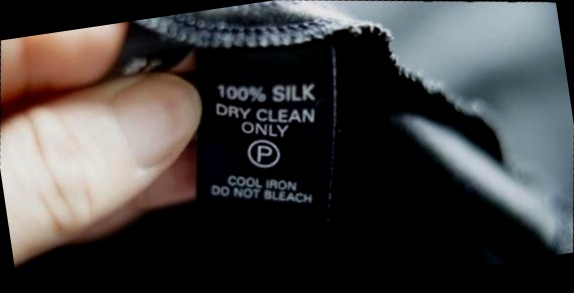dry_clean_any_solvent_except_trichloroethylene: (244, 133, 286, 173)
